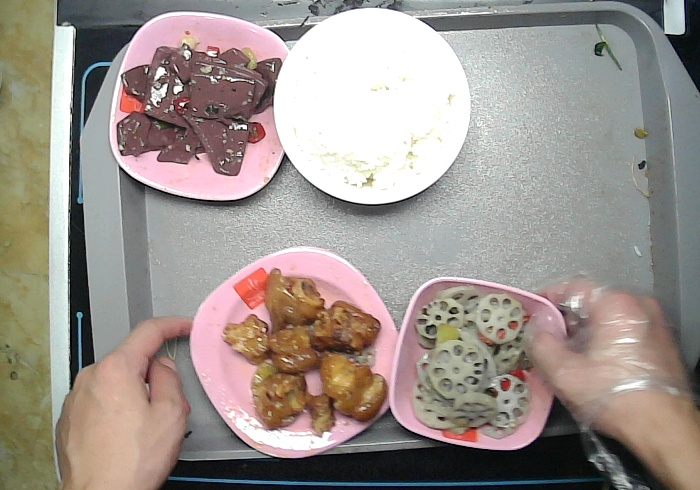SHKJ-Fan_Wan: (274, 8, 471, 207)
SHKJ-Fen_Se_Cai_Die: (108, 11, 294, 203)
SHKJ-Fen_Se_Si_Fang_Cai_Die: (191, 246, 401, 461)
SHKJ-Fen_Se_Xiao_Fang_Die: (390, 277, 568, 446)
